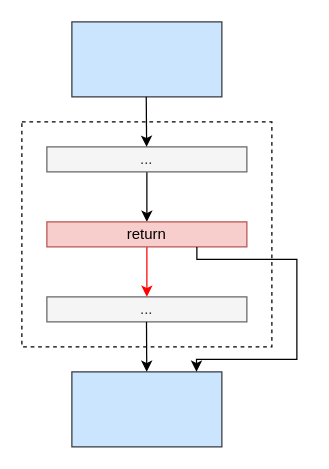
Some shapes in this 329 by 469 pixel diagram are drawn without their labels. The shapes that lost their labels are listed below. From the top down, each one's centre as x and y in pixels, then its label:
(x=146, y=59): func_entry
(x=146, y=409): func_exit
